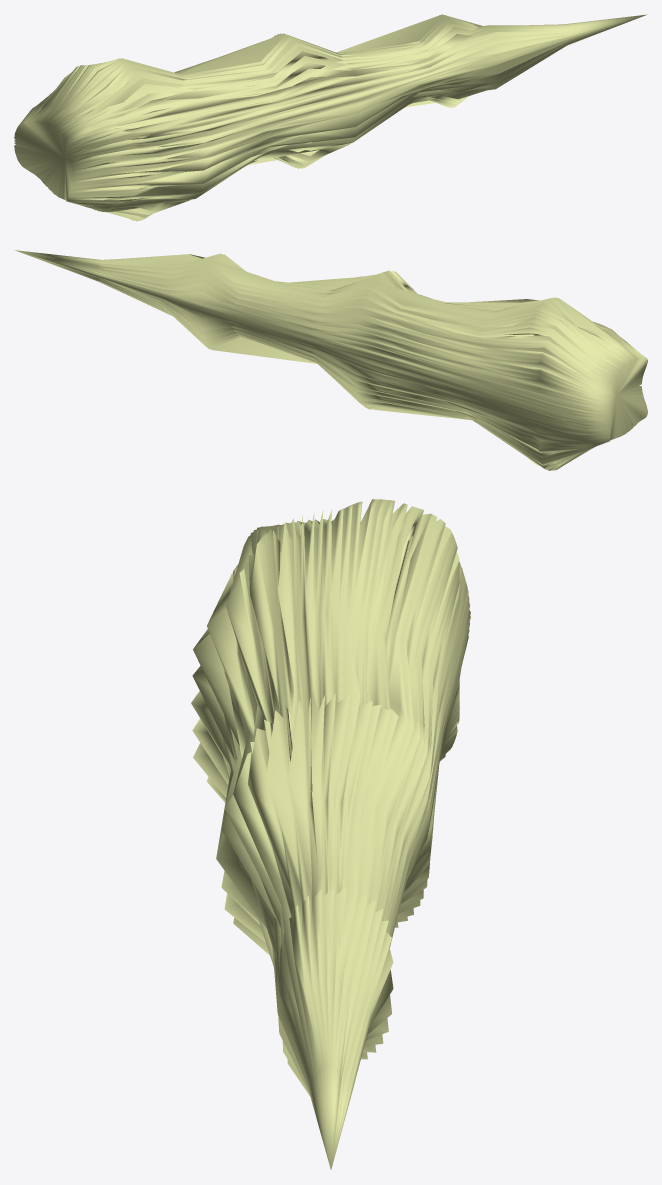
File: UnicornHorn.fbx
3 renders of one model, top to bottom at view 1: azimuth 30°, elevation 25°; view 2: azimuth 150°, elevation 25°; view 3: azimuth 270°, elevation 25°, orthographic. The views are drawn at different scales.
Parts seen in each view (by area): view 1: Cone; view 2: Cone; view 3: Cone.
Part boxes in pixels (x1=…): Cone: x1=14, y1=14, x2=646, y2=221; Cone: x1=14, y1=250, x2=647, y2=470; Cone: x1=191, y1=499, x2=470, y2=1169.
Bounding box in the file's own units: 1.92 × 0.4741 × 0.3846.
